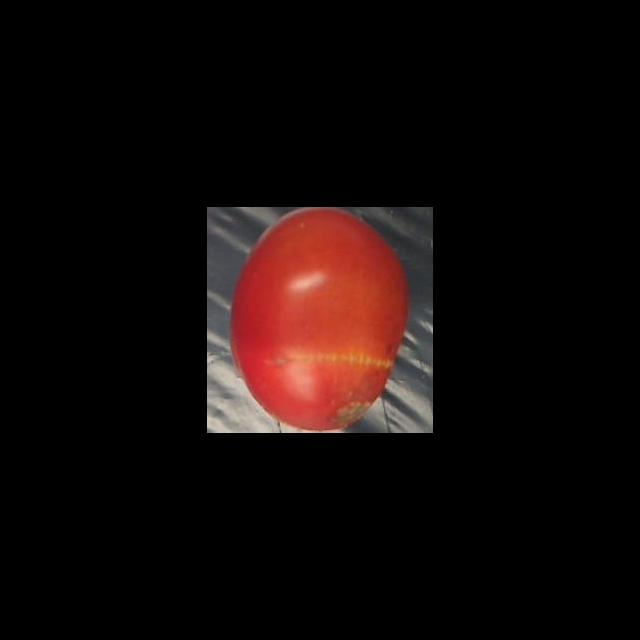tomato: (228, 208, 413, 433)
